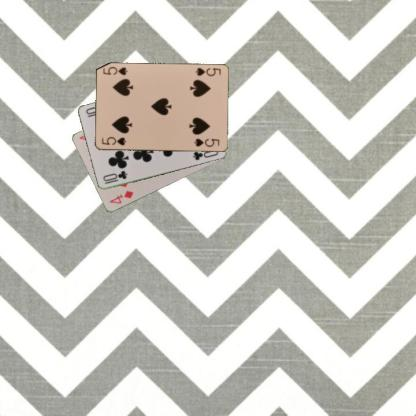10c: (101, 168, 128, 186)
4d: (107, 188, 135, 205)
5s: (99, 134, 127, 147), (193, 66, 222, 78)
